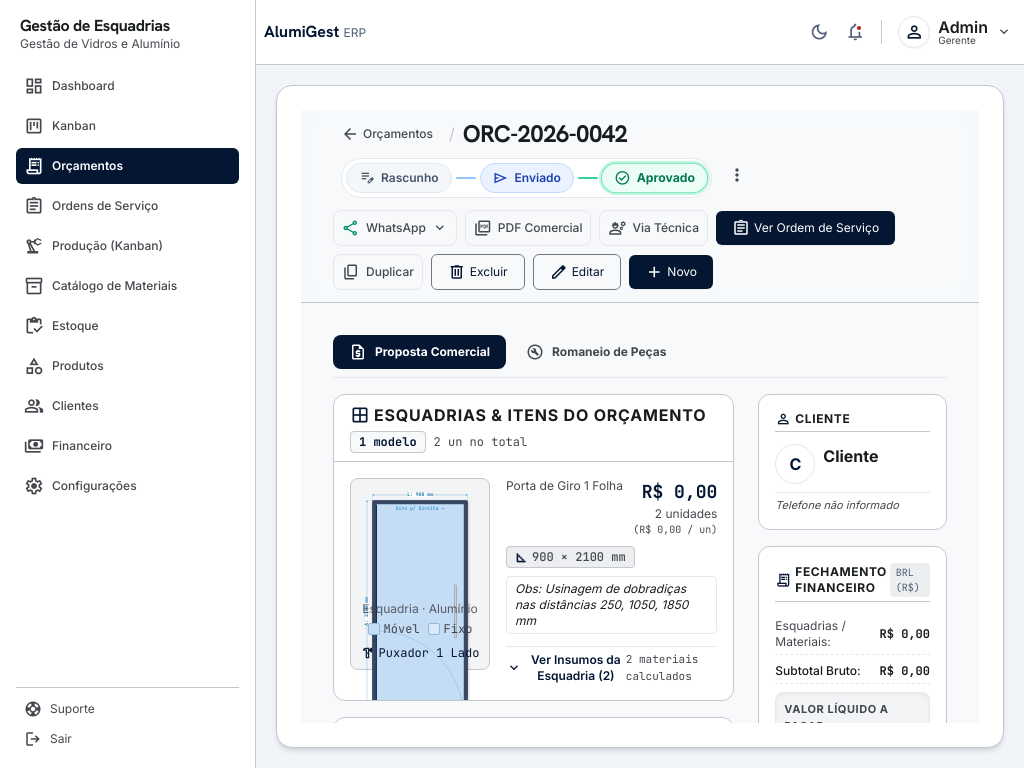
QA-04: Teste End-to-End da Via Técnica de Oficina (Ficha de Usinagem e Corte) [US-11] › Cenário 3: Resiliência — Tratamento Elegante de Falha na API ao Gerar PDF Técnico (CT-04)
Expected: the heading "ORC-2026-0042" is shown, [463, 118, 627, 150]
Note: Dispara a tentativa de download
What coordinates should you click on to do the following:
click the button with test id "btn-download-pdf-tecnico"
I would click on:
 (655, 228)
Its box is [600, 210, 709, 246].
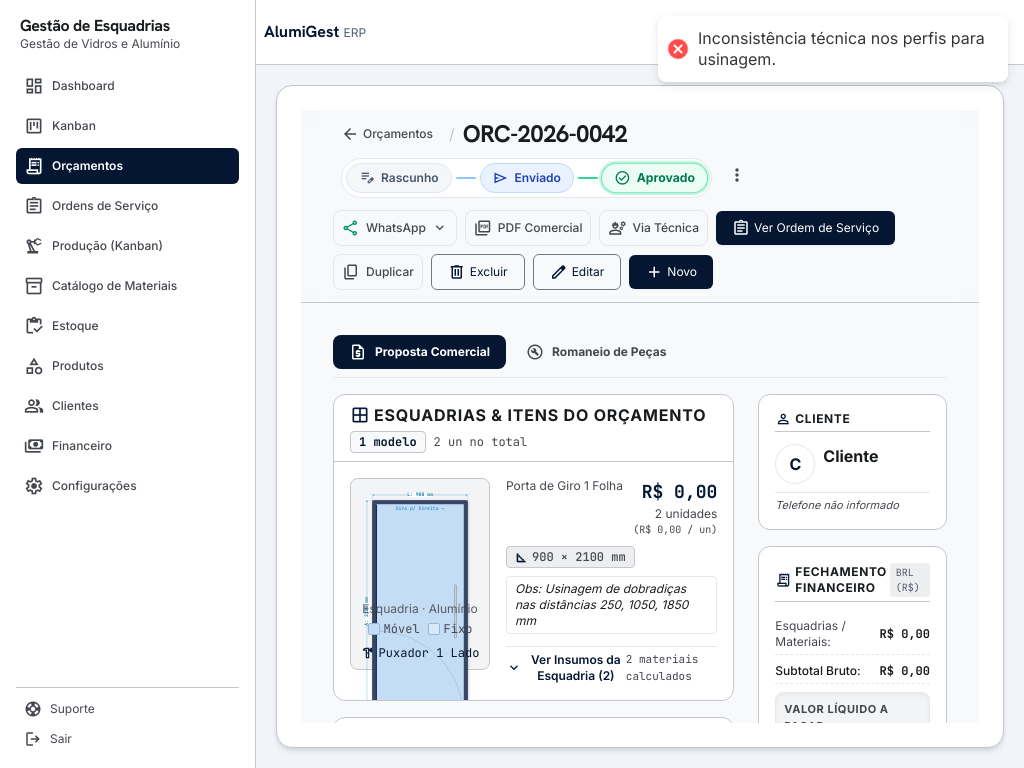
Expected: the element with test id "btn-download-pdf-tecnico" is enabled
Result: the text "Inconsistência técnica nos perfis para usinagem." is shown at [698, 28, 988, 70]
